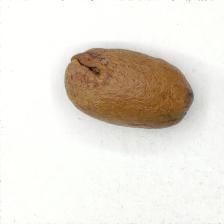NG: (67, 47, 110, 83)
